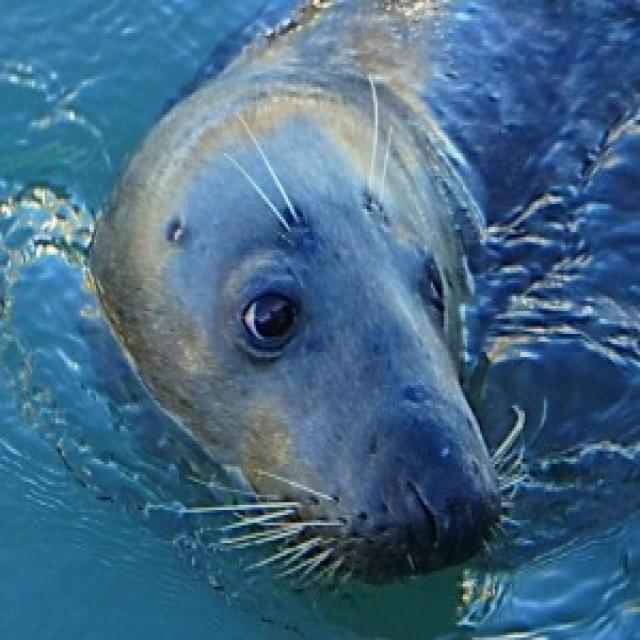Seal: (93, 0, 519, 579)
